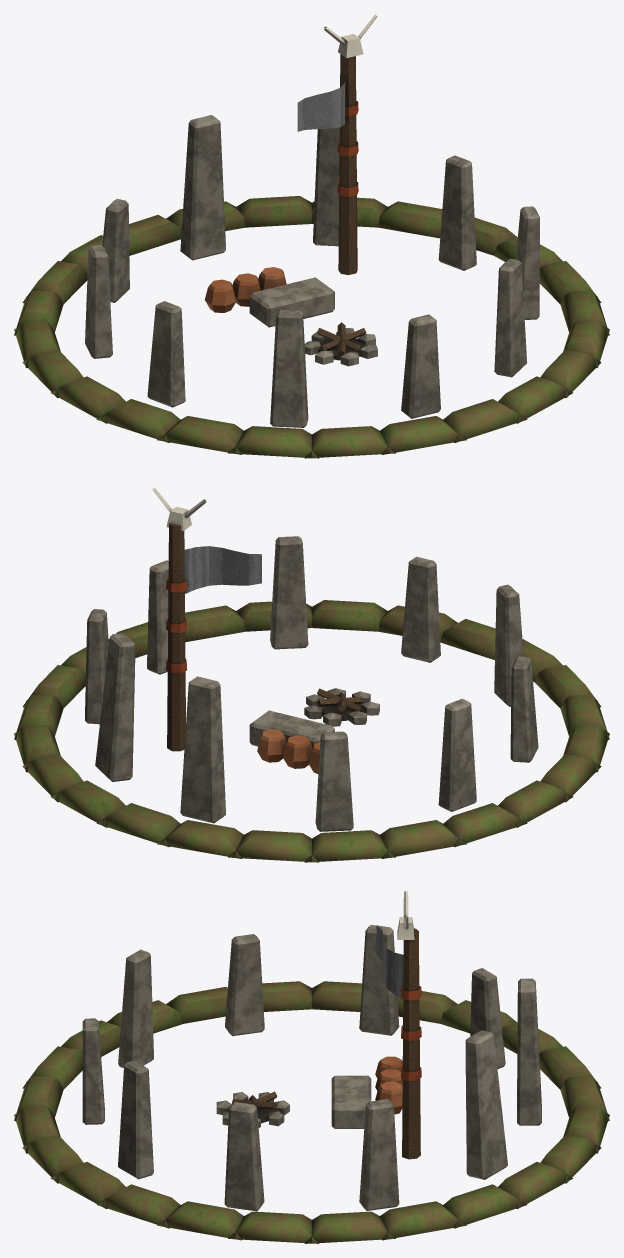
Rendered from stone_circle.glb.
3 renders of one model, top to bottom at view 1: azimuth 30°, elevation 25°; view 2: azimuth 150°, elevation 25°; view 3: azimuth 270°, elevation 25°, orthographic.
Visible parts, largest first — view 1: LOD0; view 2: LOD0; view 3: LOD0.
Part boxes in pixels (box(x1,y1,x2,y2)): LOD0: box(14, 14, 609, 458); LOD0: box(14, 487, 609, 862); LOD0: box(14, 891, 609, 1243).
Size of what is drawn, in the model's own units: 1.2 by 0.5744 by 1.2.
2 materials, 2 textured.
